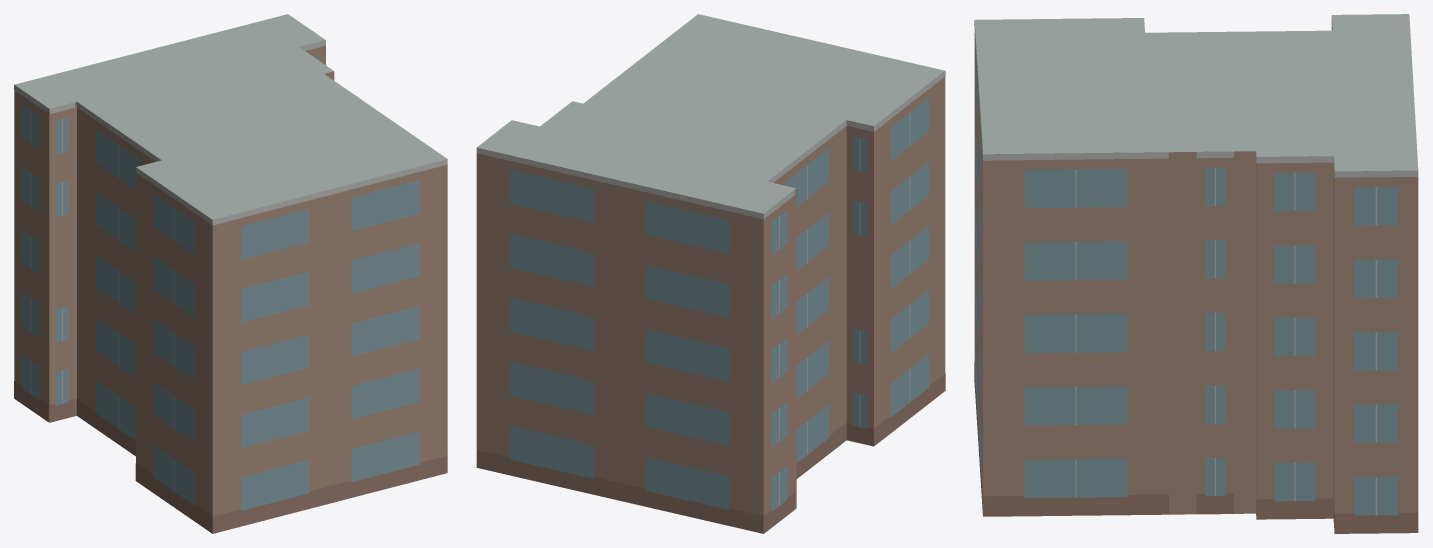
The model's file is survey-upis-32623693.glb.
3 renders of one model, left to right at view 1: azimuth 30°, elevation 25°; view 2: azimuth 150°, elevation 25°; view 3: azimuth 270°, elevation 25°, orthographic. The views are drawn at different scales.
Visible parts, largest first — view 1: survey-upis-32623693.tmp; view 2: survey-upis-32623693.tmp; view 3: survey-upis-32623693.tmp.
Part boxes in pixels (x1,y1,x2,y2): survey-upis-32623693.tmp: (14,14,447,533); survey-upis-32623693.tmp: (476,14,945,533); survey-upis-32623693.tmp: (974,14,1418,533).
Bounding box in the file's own units: 12.96 × 13.9 × 15.43.
